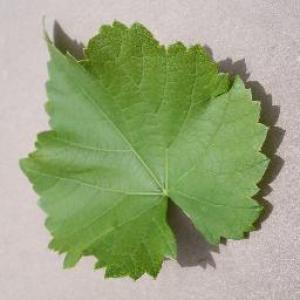Folha: (17, 14, 270, 281)
